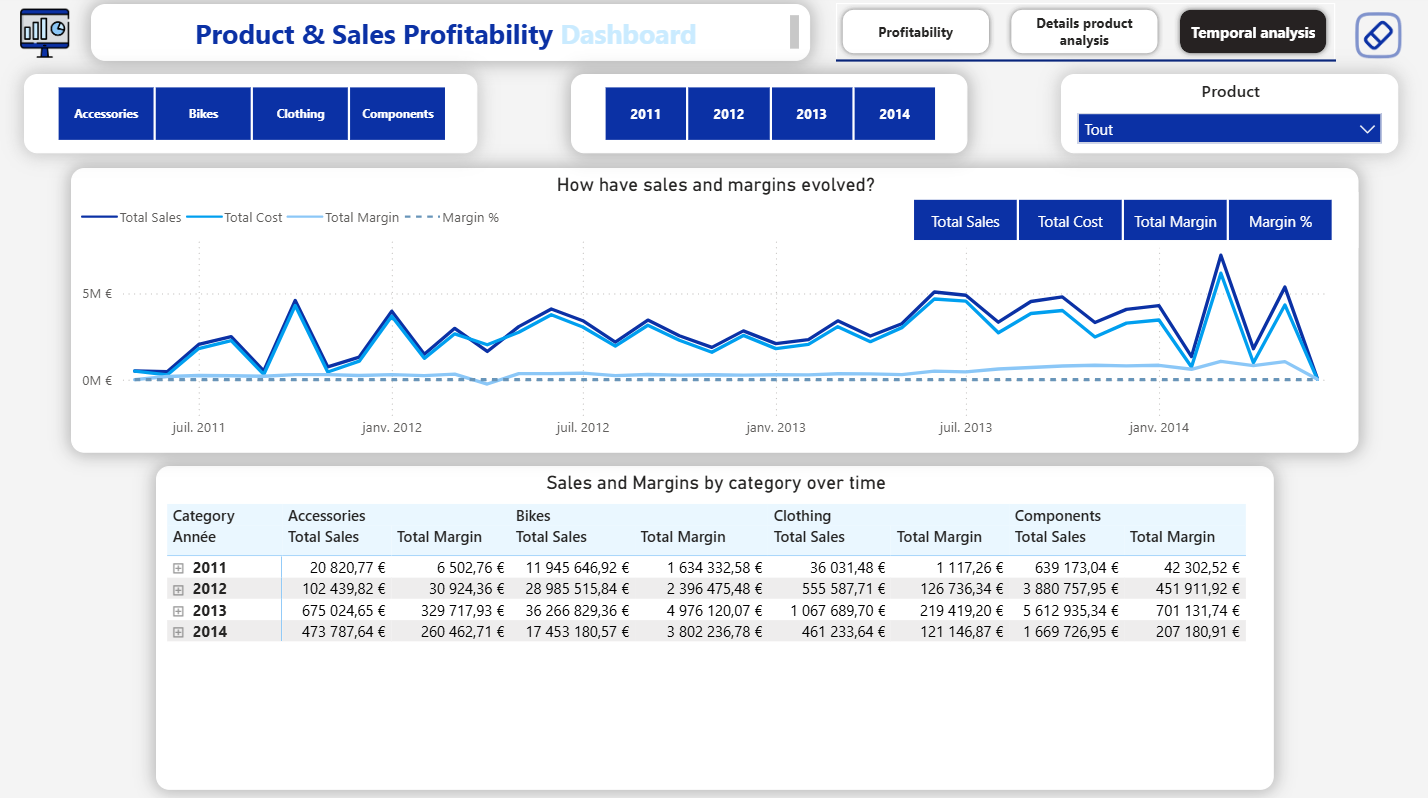

This screenshot's page, from the dashboard's own definition file:
{"tool":"powerbi","page":{"name":"Temporal analysis","canvas":[1280,720],"ordinal":2},"visuals":[{"type":"pivotTable","title":"Sales and Margins by category over time","fields":{"Rows":["ProductProfitability.OrderDate.Variation.Hiérarchie de dates.Année","ProductProfitability.OrderDate.Variation.Hiérarchie de dates.Mois"],"Columns":["ProductProfitability.Category"],"Values":["ProductProfitability.Total Sales","ProductProfitability.Total Margin"]},"box":[139.8,421.4,1001.3,289.9],"z":1000},{"type":"textbox","box":[81.5,8.1,643.9,51],"z":5000},{"type":"pageNavigator","box":[749.1,6.9,447.1,51.3],"z":6000},{"type":"shape","box":[748.7,46.6,447.8,24.2],"z":7000},{"type":"image","box":[0,6.9,80.9,54.3],"z":8000},{"type":"image","box":[1188.6,7.8,91.4,56.4],"z":9000},{"type":"lineChart","title":"How have sales and margins evolved?","fields":{"Category":["ProductProfitability.OrderDate.Variation.Hiérarchie de dates.Année","ProductProfitability.OrderDate.Variation.Hiérarchie de dates.Trimestre","ProductProfitability.OrderDate.Variation.Hiérarchie de dates.Mois"],"Y":["ProductProfitability.Total Sales","ProductProfitability.Total Cost","ProductProfitability.Total Margin","ProductProfitability.Margin %"]},"box":[63.4,154.8,1153.2,255.4],"z":10000},{"type":"slicer","fields":{"Values":["Paramètre utilisateur.Paramètre utilisateur"]},"box":[792.4,176.2,424.2,50.3],"z":11000},{"type":"slicer","title":"Category","fields":{"Values":["ProductProfitability.Category"]},"box":[21.4,70.9,406.5,70.9],"z":11001},{"type":"slicer","fields":{"Values":["ProductProfitability.OrderDate.Variation.Hiérarchie de dates.Année"]},"box":[511.3,70.9,355.2,70.9],"z":11002},{"type":"slicer","title":"Product","fields":{"Values":["ProductProfitability.ProductName"]},"box":[950,70.9,302.1,70.9],"z":11003}]}

Visuals, with their boxes in screenshot pixels (x1, y1, x2, y2), scaled from the page's 1280x720 canvas onto the 1428x798 screenshot:
"Sales and Margins by category over time" pivotTable: x1=156, y1=467, x2=1273, y2=788
textbox: x1=91, y1=9, x2=809, y2=66
pageNavigator: x1=836, y1=8, x2=1335, y2=65
shape: x1=835, y1=52, x2=1335, y2=78
image: x1=0, y1=8, x2=90, y2=68
image: x1=1326, y1=9, x2=1427, y2=71
"How have sales and margins evolved?" lineChart: x1=71, y1=172, x2=1357, y2=455
slicer - Paramètre utilisateur.Paramètre utilisateur: x1=884, y1=195, x2=1357, y2=251
"Category" slicer: x1=24, y1=79, x2=477, y2=157
slicer - ProductProfitability.OrderDate.Variation.Hiérarchie de dates.Année: x1=570, y1=79, x2=967, y2=157
"Product" slicer: x1=1060, y1=79, x2=1397, y2=157
